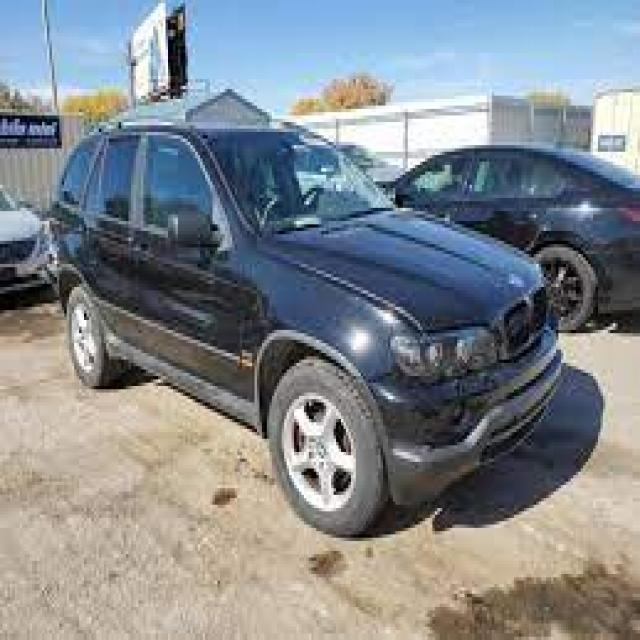minor: (446, 356, 522, 417)
